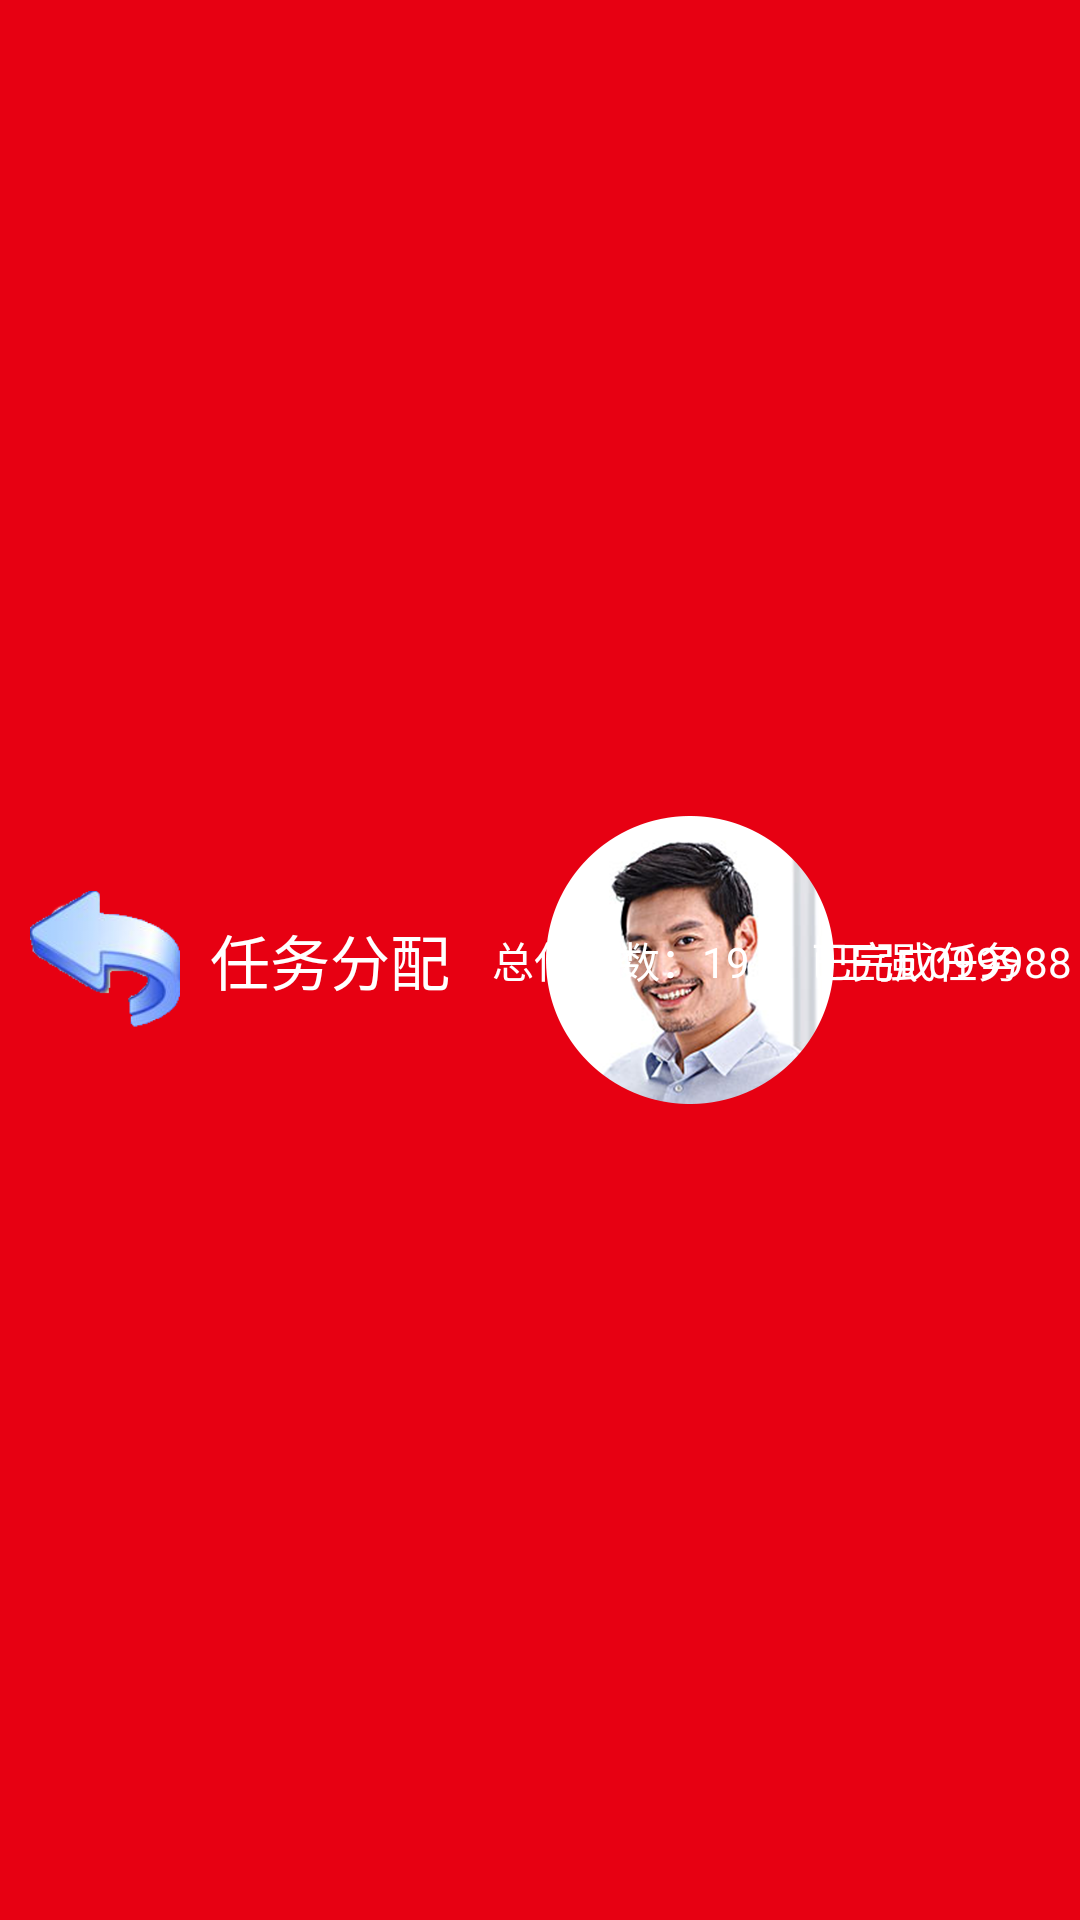

Where to tap for icons on this 1080px×1920px app screen, as (x,y):
back: (105,959)
